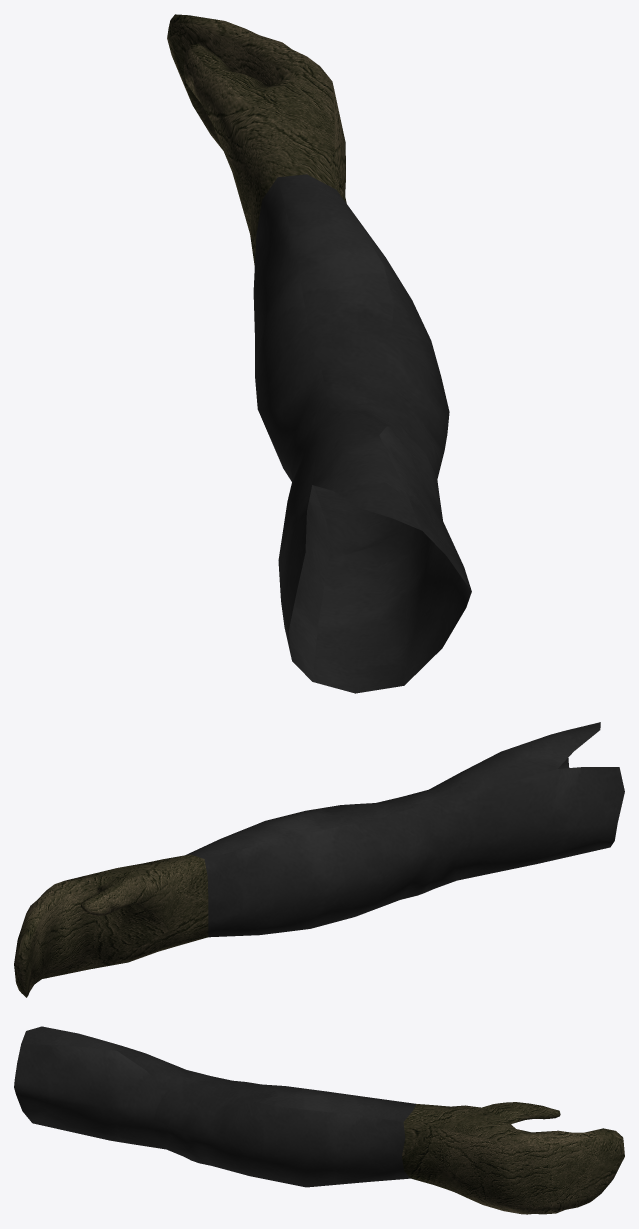
The model's file is hand.FBX.
3 views of the same model, one above another, from view 1: azimuth 30°, elevation 25°; view 2: azimuth 150°, elevation 25°; view 3: azimuth 270°, elevation 25° (orthographic). The views are drawn at different scales.
Visible parts, largest first — view 1: hand; view 2: hand; view 3: hand.
Boxes of the visible parts, x1=… form: hand: x1=167, y1=14, x2=471, y2=693; hand: x1=14, y1=722, x2=624, y2=997; hand: x1=14, y1=1026, x2=624, y2=1214.
Bounding box in the file's own units: 110 × 229 × 42.37.
